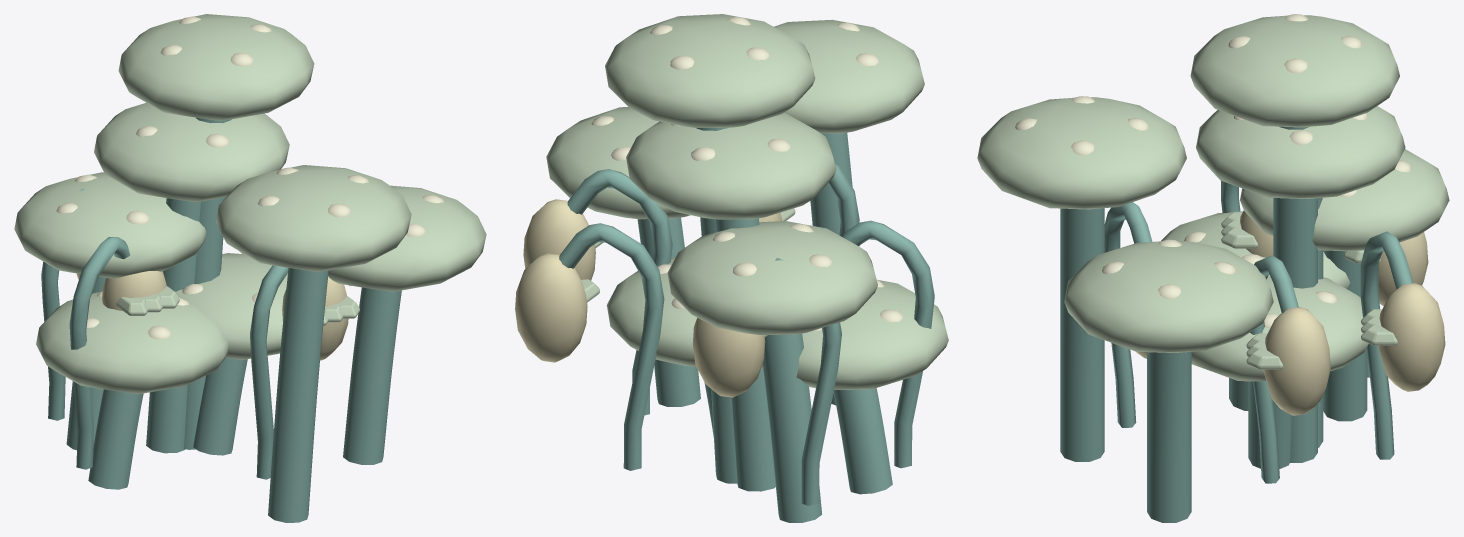
File: bio_spore_fungus_08_far.glb
3 renders of one model, left to right at view 1: azimuth 30°, elevation 25°; view 2: azimuth 150°, elevation 25°; view 3: azimuth 270°, elevation 25°, orthographic. The views are drawn at different scales.
Visible parts, largest first — view 1: Thick umbrella cap.003, Thick umbrella cap.002, Thick umbrella cap.006, Thick umbrella cap.004, Thick umbrella cap.001, Curved stipe.002, Thick umbrella cap.005, Curved stipe.005, Thick umbrella cap, Curved stipe.004, Curved stipe.006, Arched fruit stem.004 (+12 smaller); view 2: Thick umbrella cap.003, Thick umbrella cap.001, Thick umbrella cap.006, Thick umbrella cap.002, Thick umbrella cap.004, Curved stipe.001, Thick umbrella cap.005, Pendant spore capsule.003, Arched fruit stem.003, Curved stipe.004, Arched fruit stem.004, Thick umbrella cap (+12 smaller); view 3: Thick umbrella cap.002, Thick umbrella cap.003, Thick umbrella cap.005, Thick umbrella cap.006, Thick umbrella cap.001, Curved stipe.002, Curved stipe.005, Thick umbrella cap, Pendant spore capsule.003, Pendant spore capsule, Curved stipe.003, Arched fruit stem.003 (+14 smaller).
Boxes of the visible parts, x1,y1,x2,y2 form: Thick umbrella cap.003: (118,14,314,121); Thick umbrella cap.002: (216,165,411,271); Thick umbrella cap.006: (94,102,289,202); Thick umbrella cap.004: (36,292,228,394); Thick umbrella cap.001: (14,172,206,278); Curved stipe.002: (268,268,328,522); Thick umbrella cap.005: (328,185,486,291); Curved stipe.005: (343,287,401,464); Thick umbrella cap: (175,253,287,360); Curved stipe.004: (88,389,143,489); Curved stipe.006: (146,198,200,453); Arched fruit stem.004: (69,237,130,469); Thick umbrella cap.003: (605,14,815,127); Thick umbrella cap.001: (667,221,877,334); Thick umbrella cap.006: (626,113,836,219); Thick umbrella cap.002: (774,19,924,133); Thick umbrella cap.004: (761,279,948,389); Curved stipe.001: (762,333,822,522); Thick umbrella cap.005: (546,107,690,219); Pendant spore capsule.003: (515,253,587,362); Arched fruit stem.003: (559,223,664,470); Curved stipe.004: (833,388,892,494); Arched fruit stem.004: (842,220,934,468); Thick umbrella cap: (606,257,696,366); Thick umbrella cap.002: (977,97,1186,209); Thick umbrella cap.003: (1190,15,1399,127); Thick umbrella cap.005: (1064,241,1273,352); Thick umbrella cap.006: (1196,106,1405,198); Thick umbrella cap.001: (1240,149,1449,251); Curved stipe.002: (1060,208,1104,461); Curved stipe.005: (1147,351,1191,522); Thick umbrella cap: (1191,275,1368,381); Pendant spore capsule.003: (1378,283,1445,391); Pendant spore capsule: (1263,307,1330,415); Curved stipe.003: (1273,126,1317,462); Arched fruit stem.003: (1360,231,1412,459).
Size of the model in its own units: 1.82 by 1.82 by 1.8.
